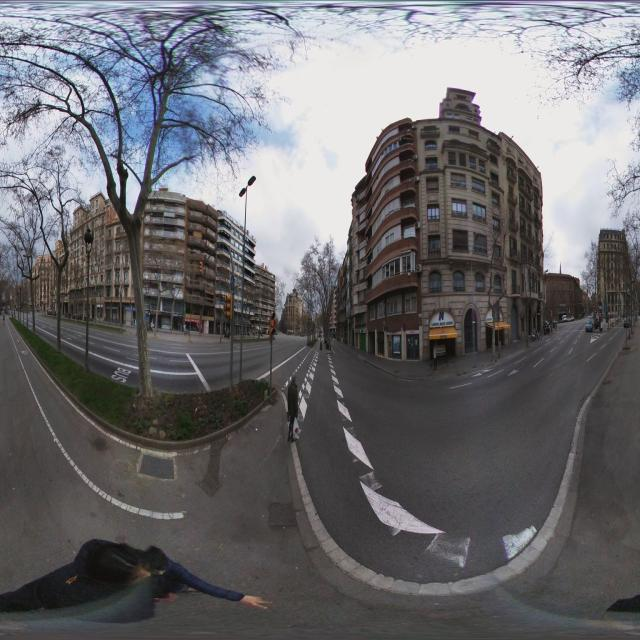forb_stopping: (401, 321, 407, 332)
